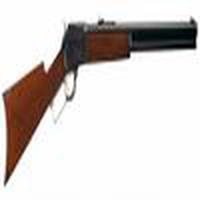gun: (4, 20, 200, 172)
